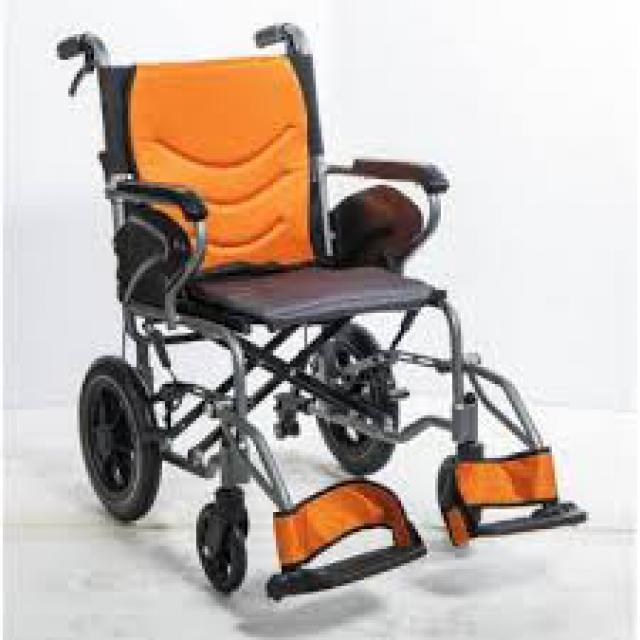wheelchair: (51, 14, 589, 603)
